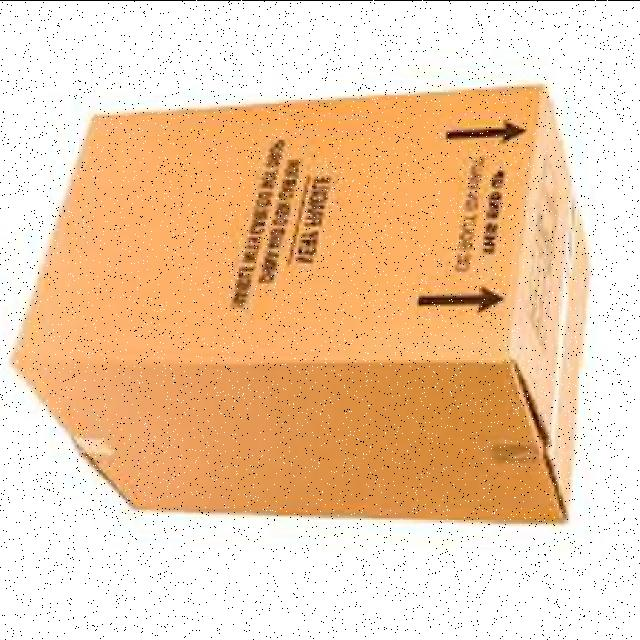normal: (10, 87, 592, 524)
